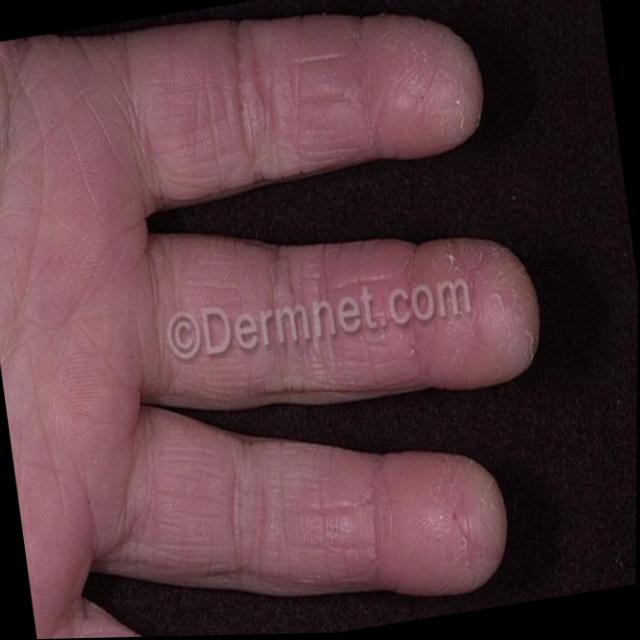liquenificacion 1: (0, 28, 541, 639)
